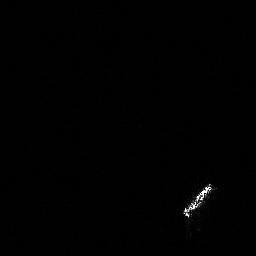ship: (178, 179, 218, 220)
